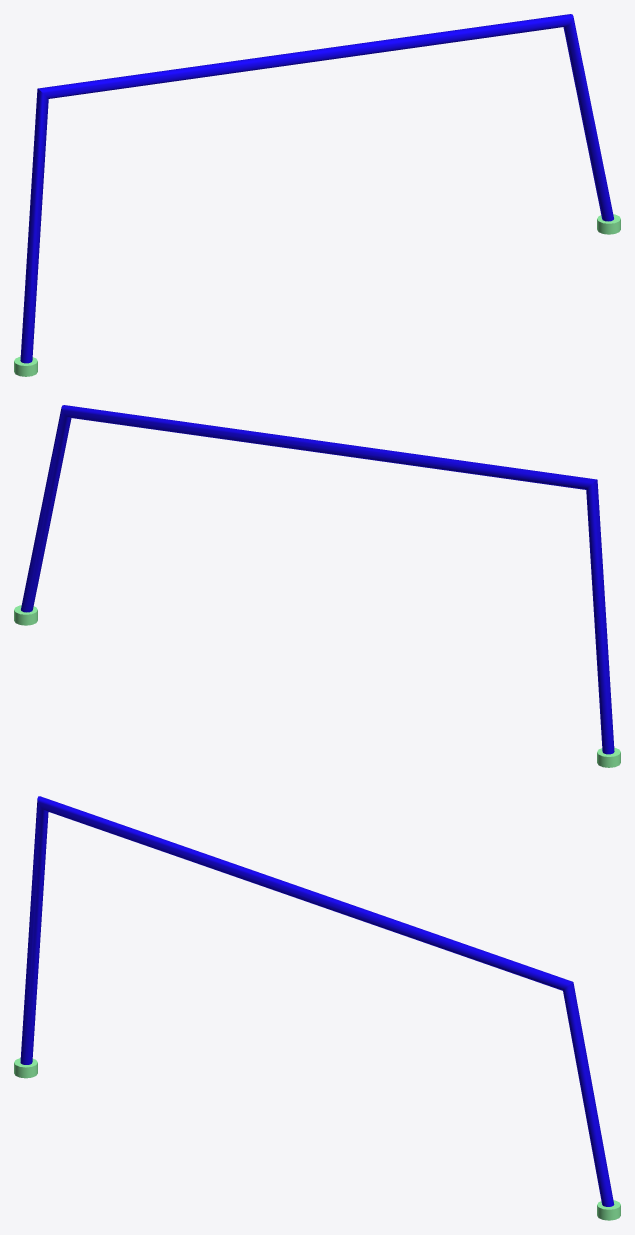
3 views of the same model, one above another, from view 1: azimuth 30°, elevation 25°; view 2: azimuth 150°, elevation 25°; view 3: azimuth 330°, elevation 25° (orthographic).
Parts seen in each view (by area): view 1: Line003; view 2: Line003; view 3: Line003.
Part boxes in pixels (x1,y1,x2,y2): Line003: [14, 14, 620, 376]; Line003: [14, 405, 620, 767]; Line003: [14, 796, 620, 1220].
Bounding box in the file's own units: 291 × 129 × 10.
